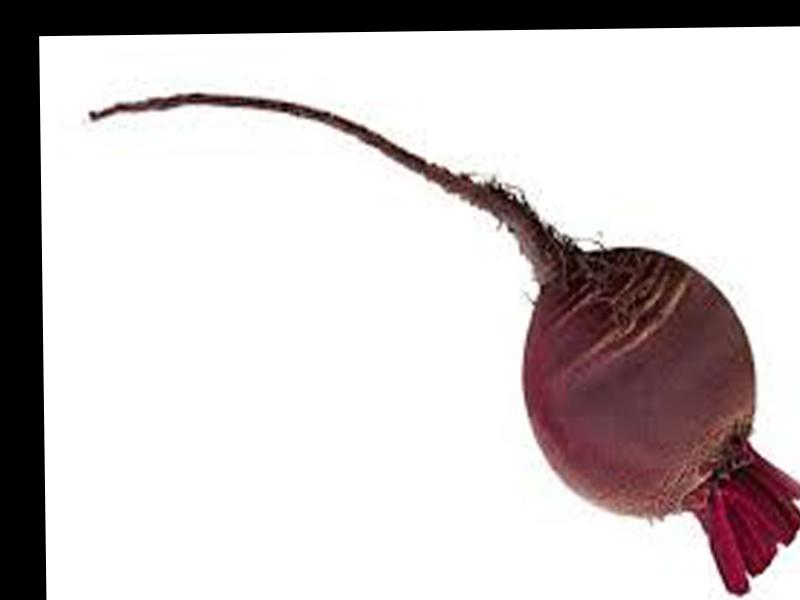Beet: (82, 85, 800, 600)
